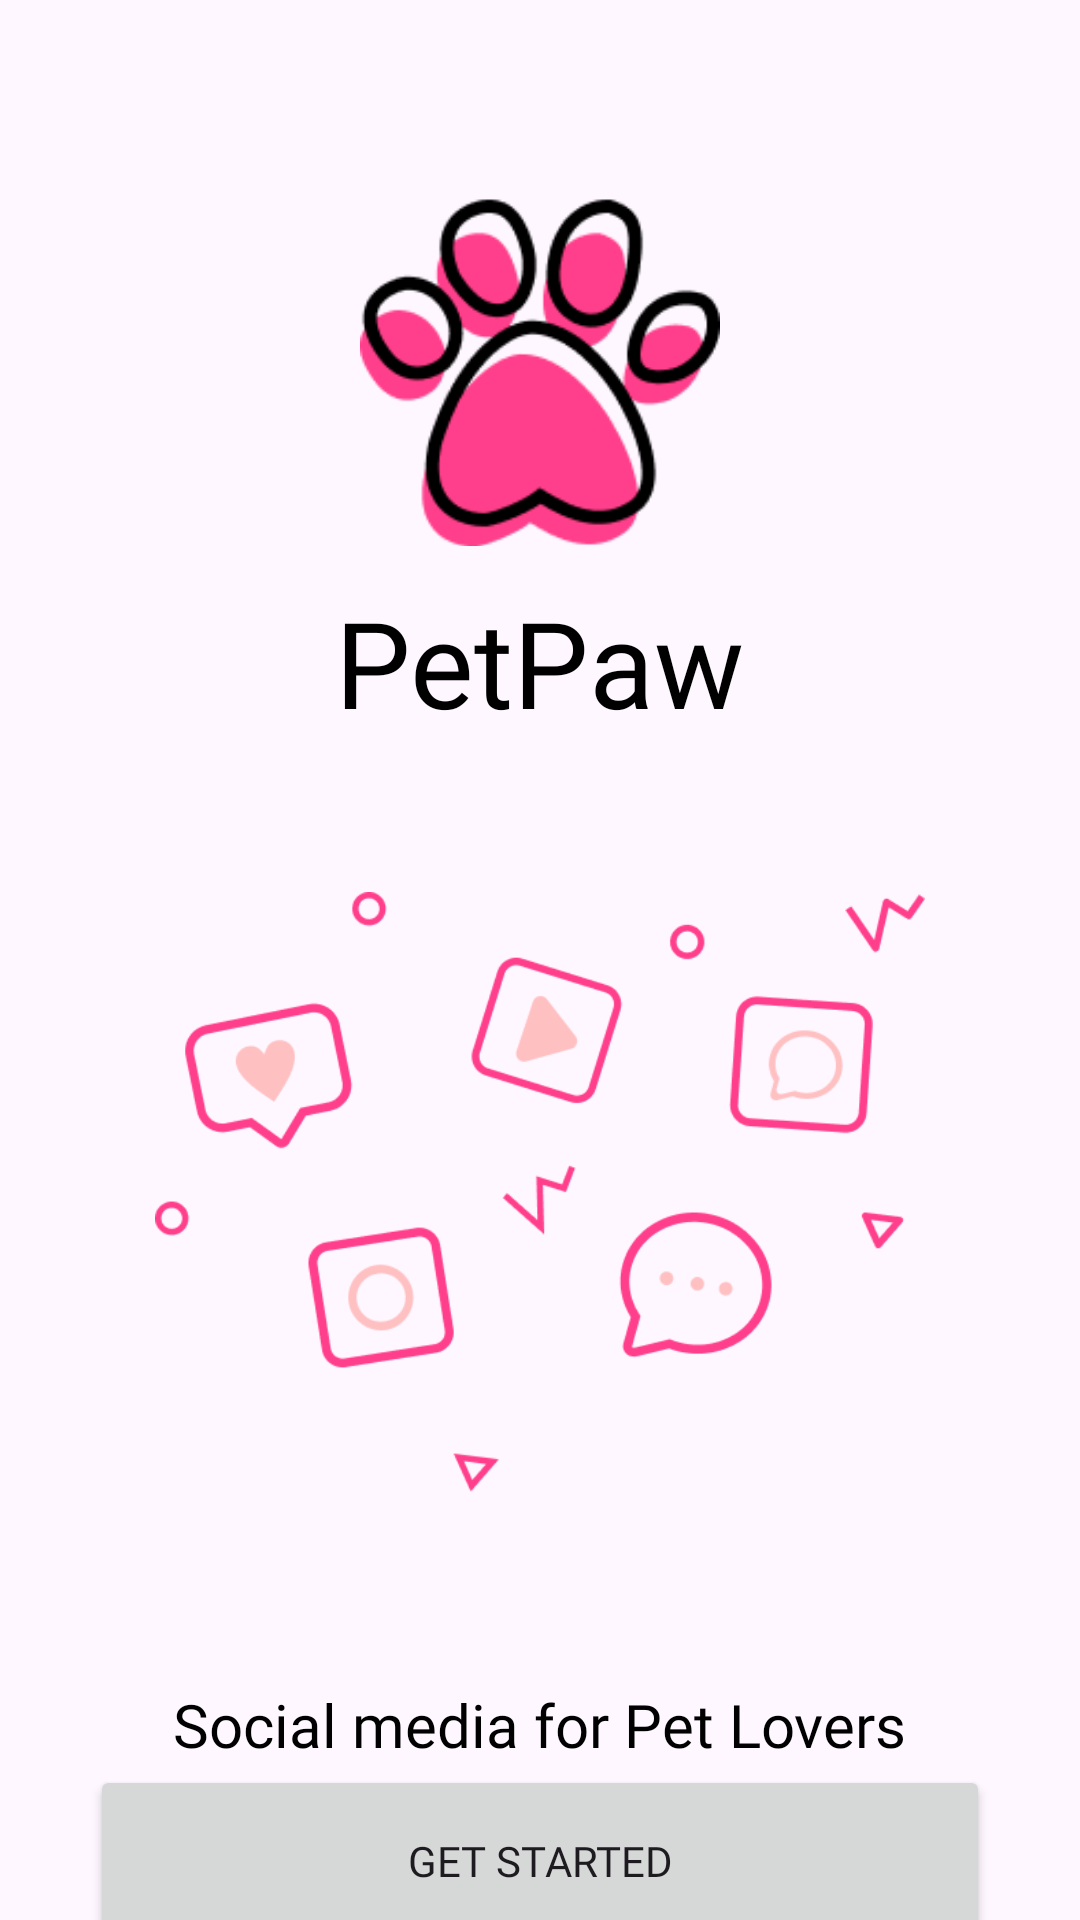

Icons on this 1080px x 1920px Android screen, each with the point to tap as [x,y]:
app: [540,372]
